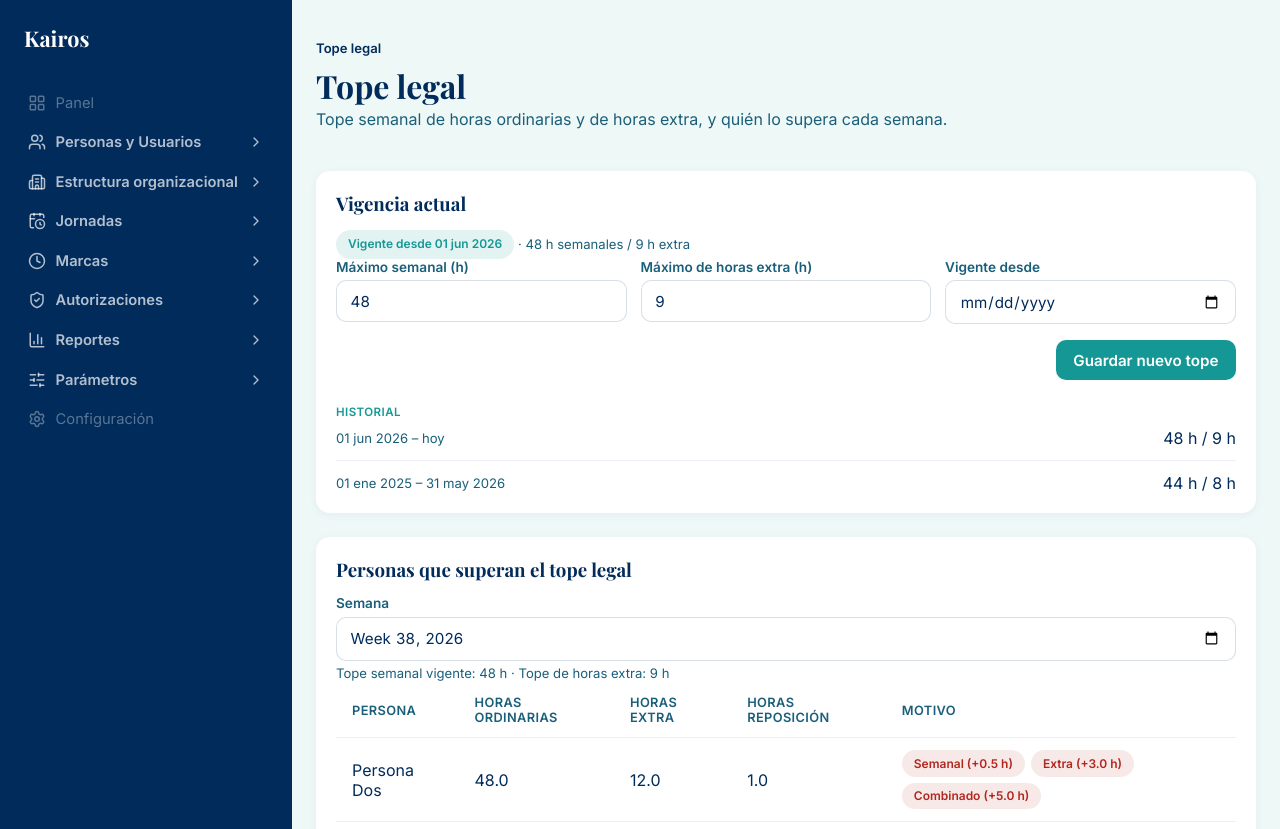
ParametrosTopeLegalPage › en 409 muestra el banner de confirmación y no reintenta solo
Expected: the text "Vigente desde 01 jun 2026" is shown, [336,230,514,259]
Step 1. Replace the text in the number field labelled "Máximo semanal (h)" with "50" → [481, 301], box [336,280,627,322]
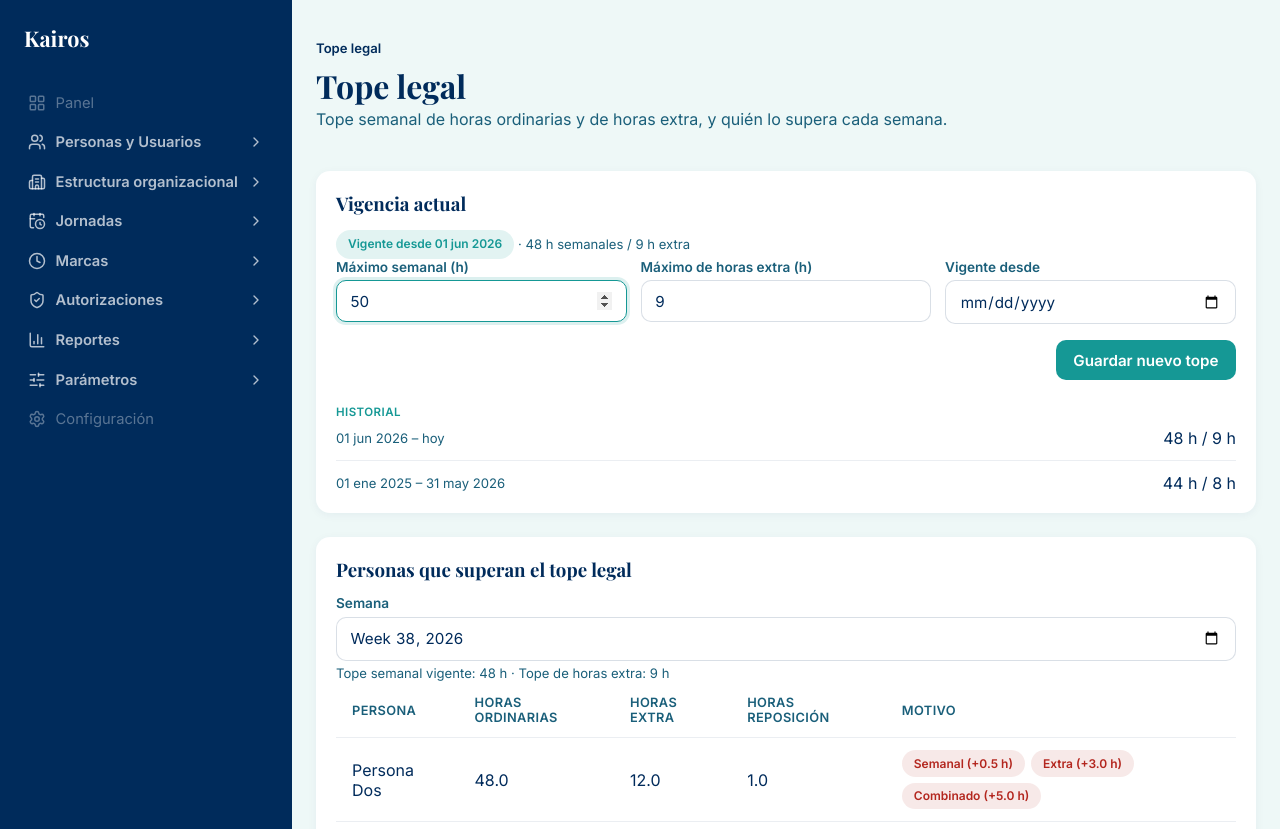
Step 2. Replace the text in the number field labelled "Máximo de horas extra (h)" with "10" → [786, 301], box [640,280,931,322]
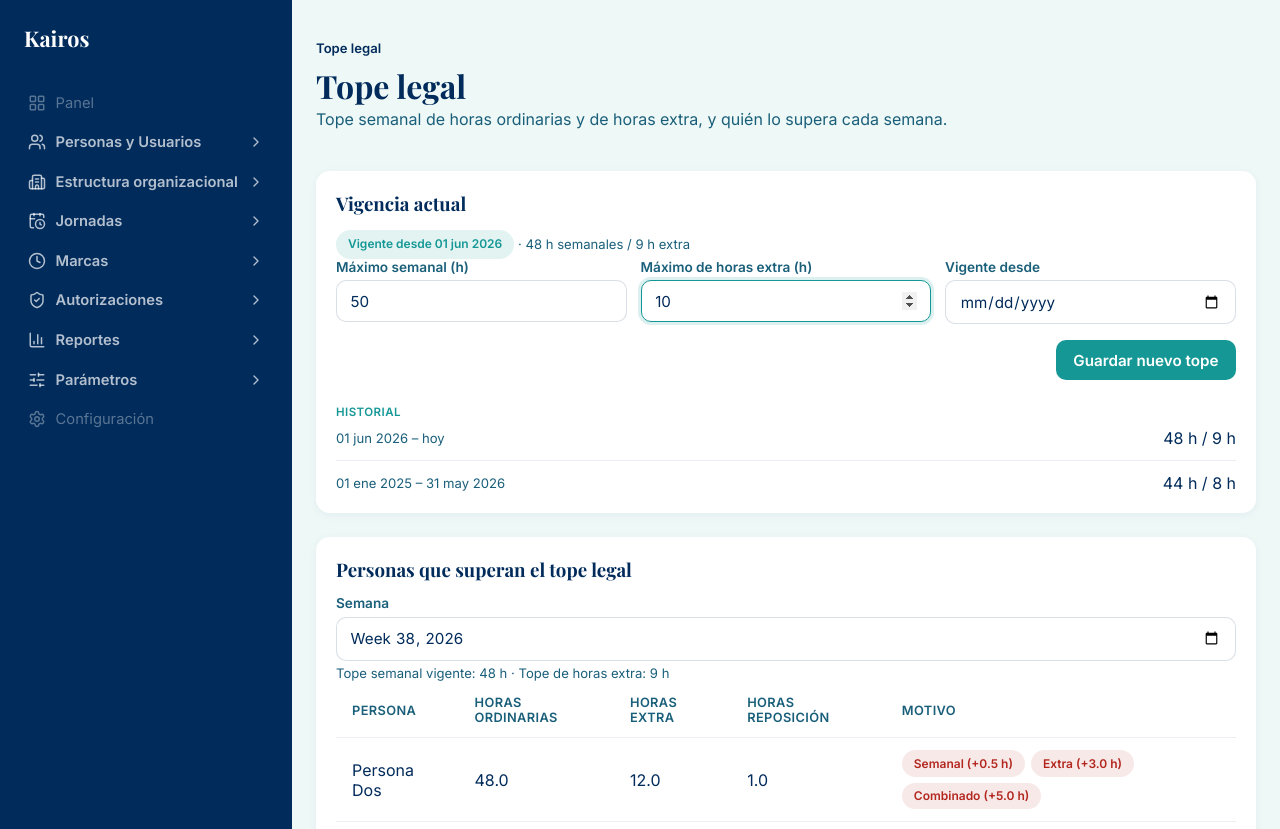
Step 3. Type "2026-10-01" into the date field labelled "Vigente desde" → [1091, 302], box [945,280,1236,324]
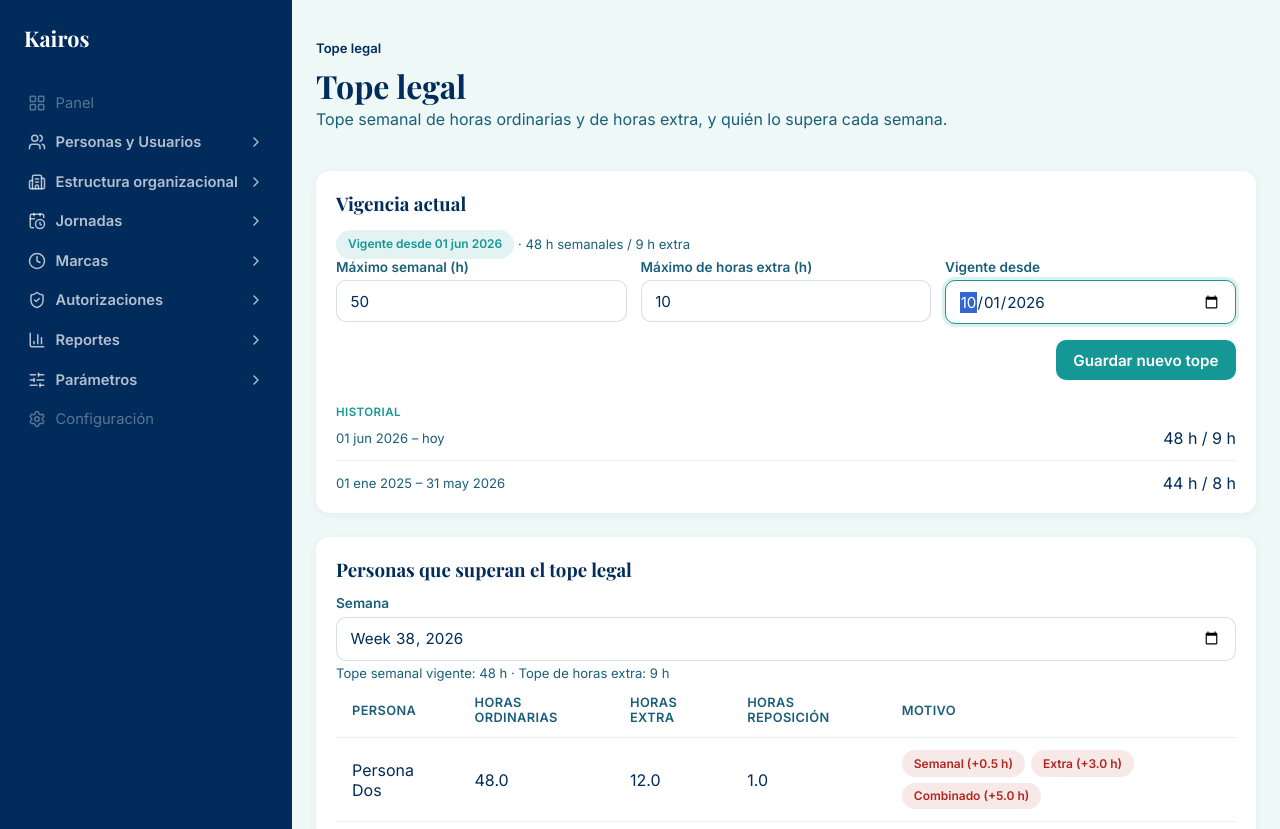
Step 4. Click the button "Guardar nuevo tope" → [1146, 360], box [1056,340,1236,380]
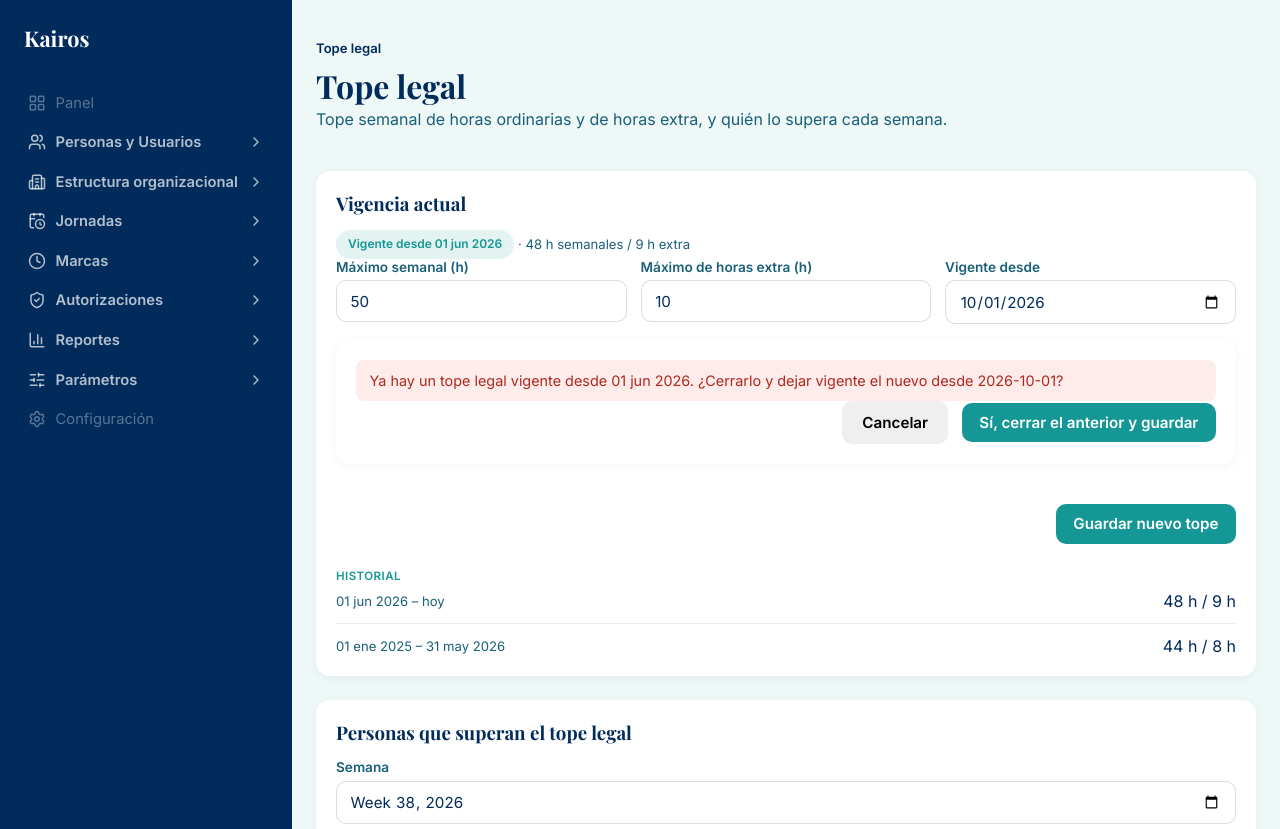
Expected: the message shows "Ya hay un tope legal vigente", [370,372,611,389]
